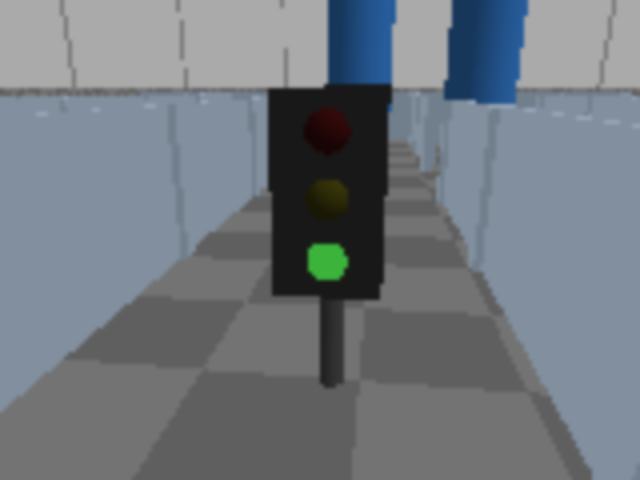traffic_light: (266, 67, 392, 413)
